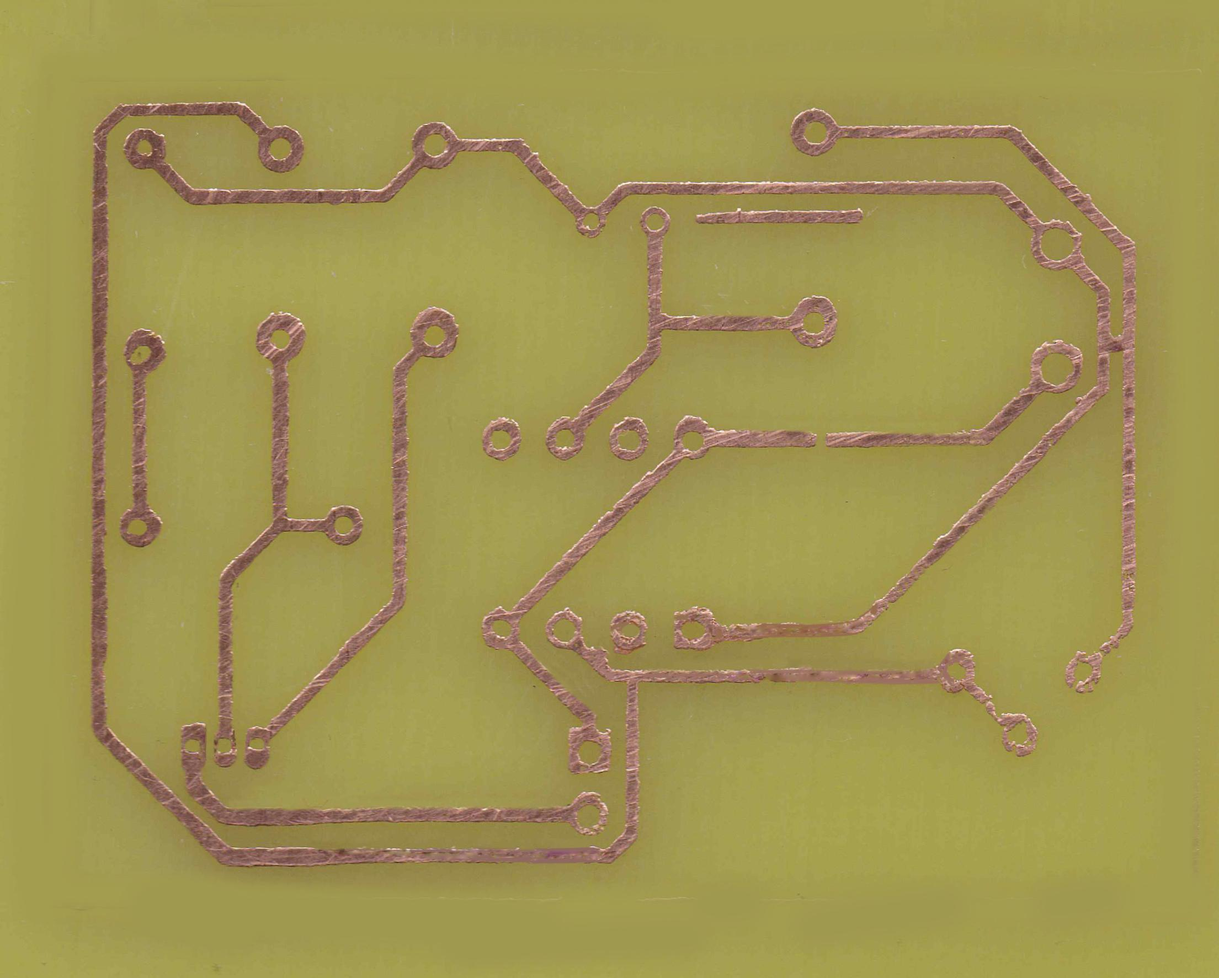missing_hole: (1068, 647, 1105, 697)
open_circuit: (807, 426, 837, 453)
short: (1100, 328, 1135, 353)
spur: (587, 644, 610, 669)
spurious_copper: (697, 206, 869, 228)
